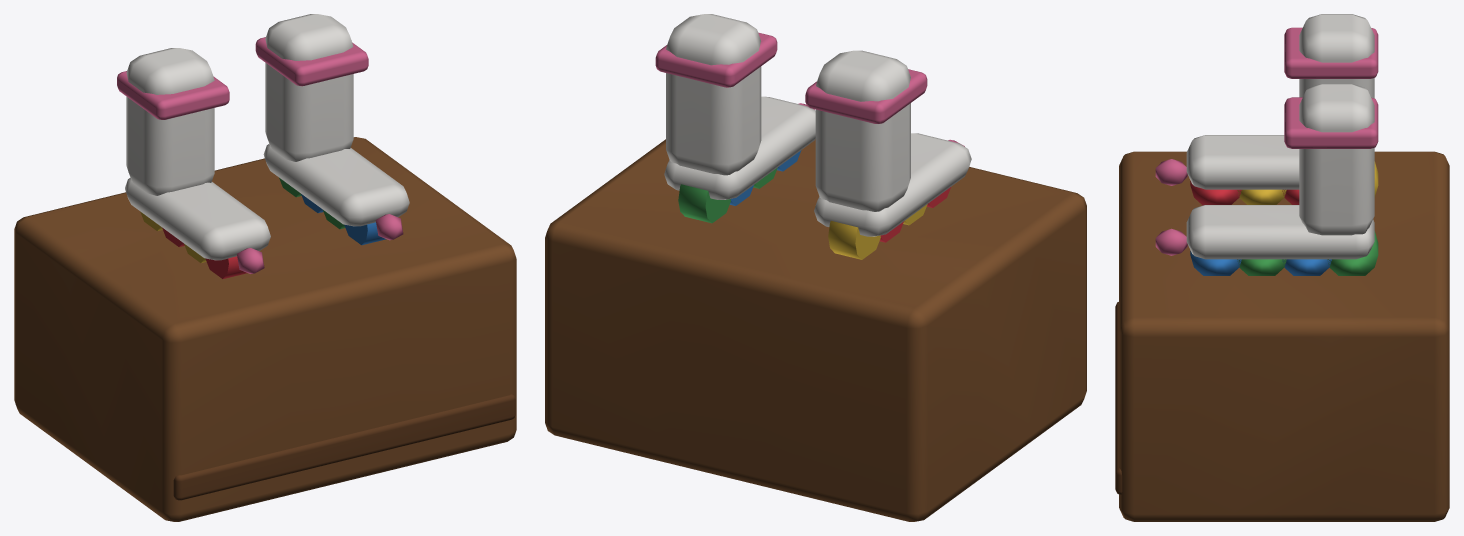
Rendered from furn_skates_display.glb.
3 views of the same model, side by side, from view 1: azimuth 30°, elevation 25°; view 2: azimuth 150°, elevation 25°; view 3: azimuth 270°, elevation 25° (orthographic). The views are drawn at different scales.
Visible parts, largest first — view 1: furn_skates_display_main; view 2: furn_skates_display_main; view 3: furn_skates_display_main.
Part boxes in pixels (x1,y1,x2,y2): furn_skates_display_main: (14,14,516,521); furn_skates_display_main: (545,14,1086,521); furn_skates_display_main: (1115,14,1449,521).
Bounding box in the file's own units: 0.56 × 0.56 × 0.445.
